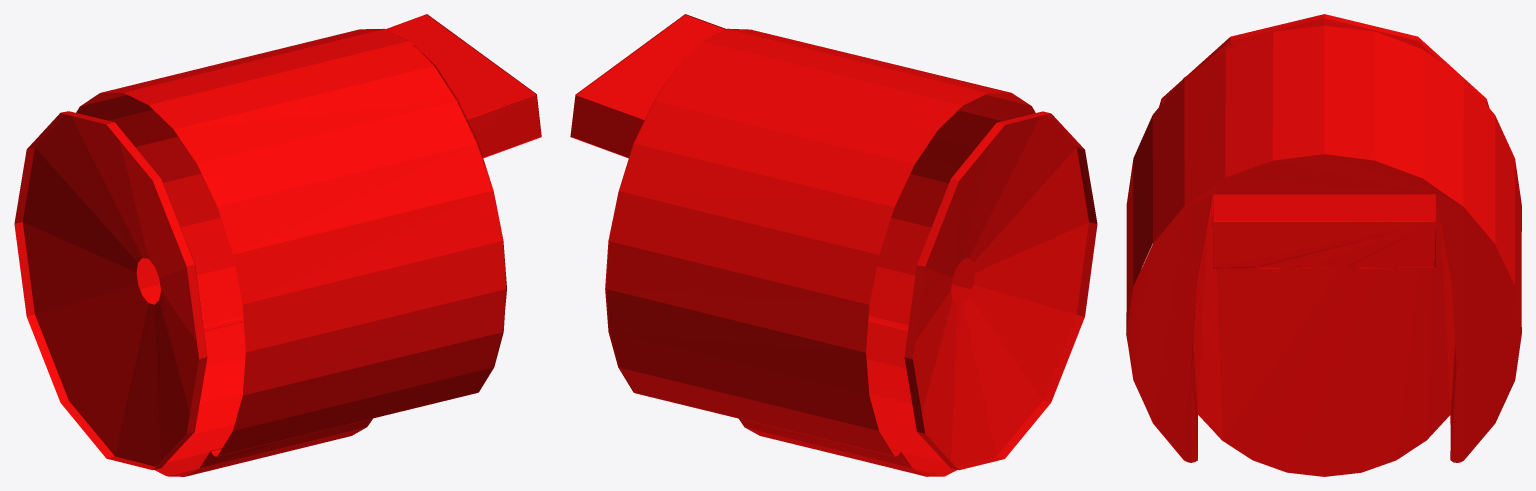
The picture shows the model from 3 angles, left to right: view 1: azimuth 30°, elevation 25°; view 2: azimuth 150°, elevation 25°; view 3: azimuth 270°, elevation 25°; orthographic projection.
Visible parts, largest first — view 1: Renderer Node; view 2: Renderer Node; view 3: Renderer Node.
Boxes of the visible parts, left/top/right/bottom form: Renderer Node: left=14, top=14, right=541, bottom=476; Renderer Node: left=570, top=14, right=1097, bottom=476; Renderer Node: left=1126, top=14, right=1521, bottom=476.
Bounding box in the file's own units: 0.6191 × 0.5643 × 0.5489.
Materials: 1 (1 with a texture image).
